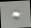Squash-Ball: (1, 1, 31, 28)
